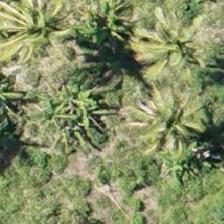coconut_tree: (127, 91, 217, 181), (135, 0, 223, 79), (17, 0, 107, 74)
